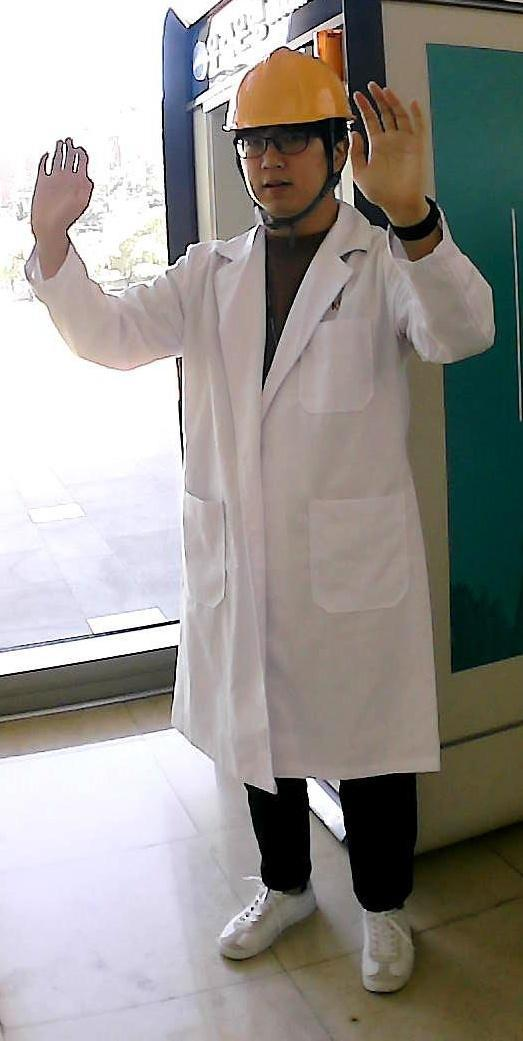lab_coat: (163, 226, 390, 779)
